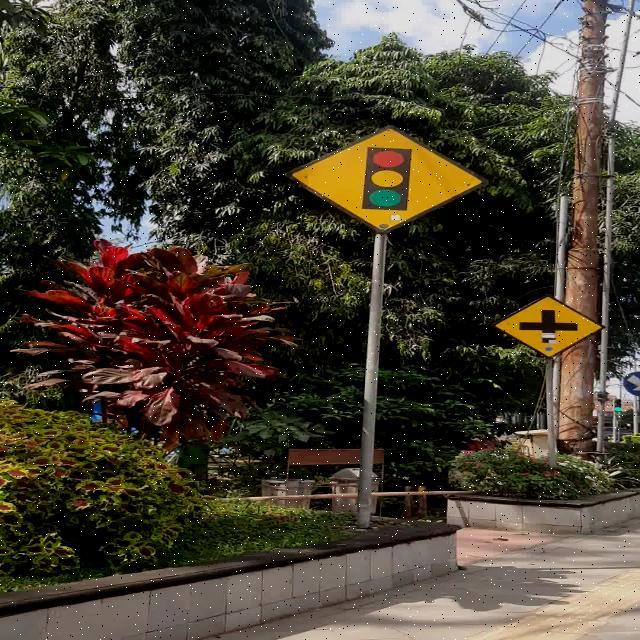Lampu Lalu Lintas: (285, 125, 489, 234)
